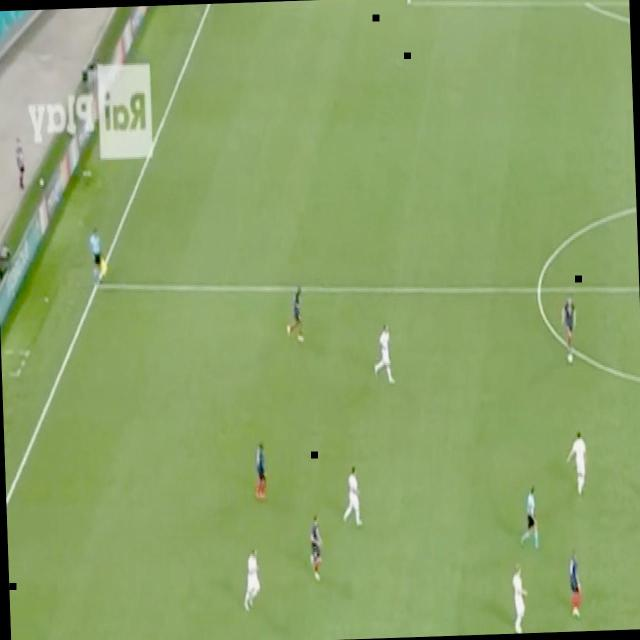ball: (566, 350, 574, 366), (38, 176, 46, 186)
player-white: (564, 426, 590, 499), (371, 320, 397, 388), (516, 481, 540, 553), (240, 546, 264, 616), (510, 560, 532, 634), (340, 463, 364, 529), (283, 281, 307, 345), (566, 544, 584, 620), (308, 512, 326, 584), (559, 291, 579, 350), (252, 438, 270, 503), (88, 225, 104, 289)
